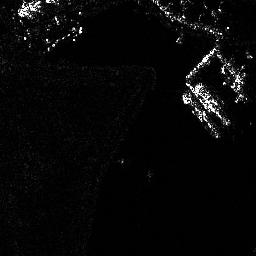ship: (179, 90, 220, 138), (195, 82, 226, 116)
